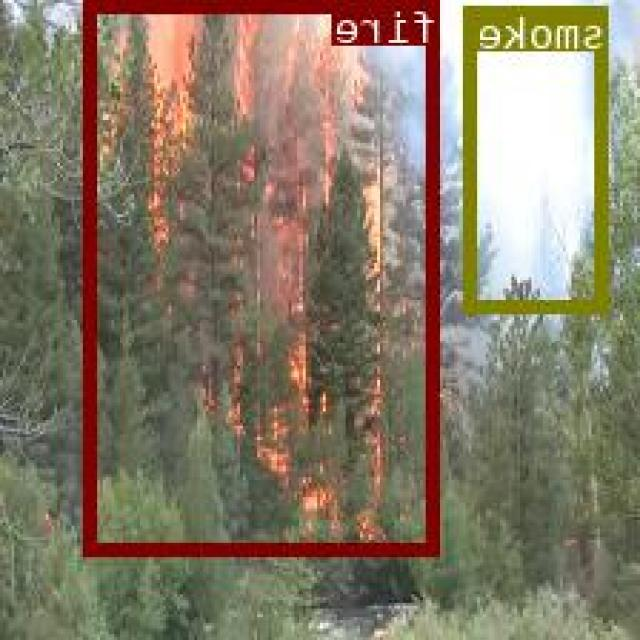fire: (89, 0, 441, 551)
smoke: (466, 3, 609, 310)
